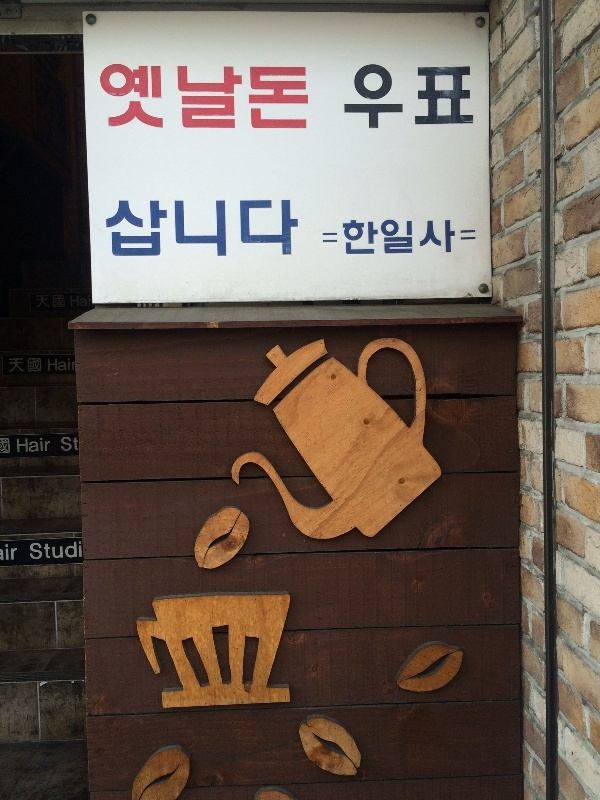text: (97, 60, 112, 132), (113, 60, 128, 132), (129, 60, 144, 132), (145, 60, 160, 132), (161, 60, 176, 132), (177, 60, 192, 132), (193, 60, 208, 132), (209, 60, 224, 132), (225, 60, 240, 132), (241, 60, 256, 132), (257, 60, 272, 132), (273, 60, 288, 132), (289, 60, 304, 132), (353, 65, 368, 132), (369, 65, 384, 132), (385, 65, 400, 132), (401, 65, 416, 132), (417, 65, 432, 132), (433, 65, 448, 132), (449, 65, 464, 132), (113, 199, 128, 259), (129, 199, 144, 259), (145, 199, 160, 259), (161, 199, 176, 259), (177, 199, 192, 259), (193, 199, 208, 259), (209, 199, 224, 259), (225, 199, 240, 259), (241, 199, 256, 259), (257, 199, 272, 259), (273, 199, 288, 259), (465, 65, 476, 132), (289, 199, 299, 259), (337, 219, 352, 258), (353, 219, 368, 258), (369, 219, 384, 258), (385, 219, 400, 258), (401, 219, 416, 258), (417, 219, 432, 258), (433, 219, 448, 258), (449, 219, 464, 258), (323, 219, 336, 258), (465, 219, 476, 258), (105, 199, 112, 259), (305, 60, 310, 132), (347, 65, 352, 132), (33, 541, 48, 561), (49, 541, 64, 561), (65, 541, 80, 561), (1, 437, 16, 455), (1, 544, 16, 561), (17, 357, 32, 374), (17, 437, 32, 453), (33, 437, 48, 453), (49, 294, 64, 309), (65, 437, 79, 452), (49, 359, 64, 372), (36, 294, 48, 309), (33, 357, 42, 374), (65, 359, 75, 372), (70, 295, 80, 308), (81, 295, 91, 308), (9, 357, 16, 374), (61, 437, 64, 452), (30, 541, 32, 561), (81, 541, 83, 561), (49, 437, 51, 453), (17, 544, 18, 561), (65, 294, 66, 309)
